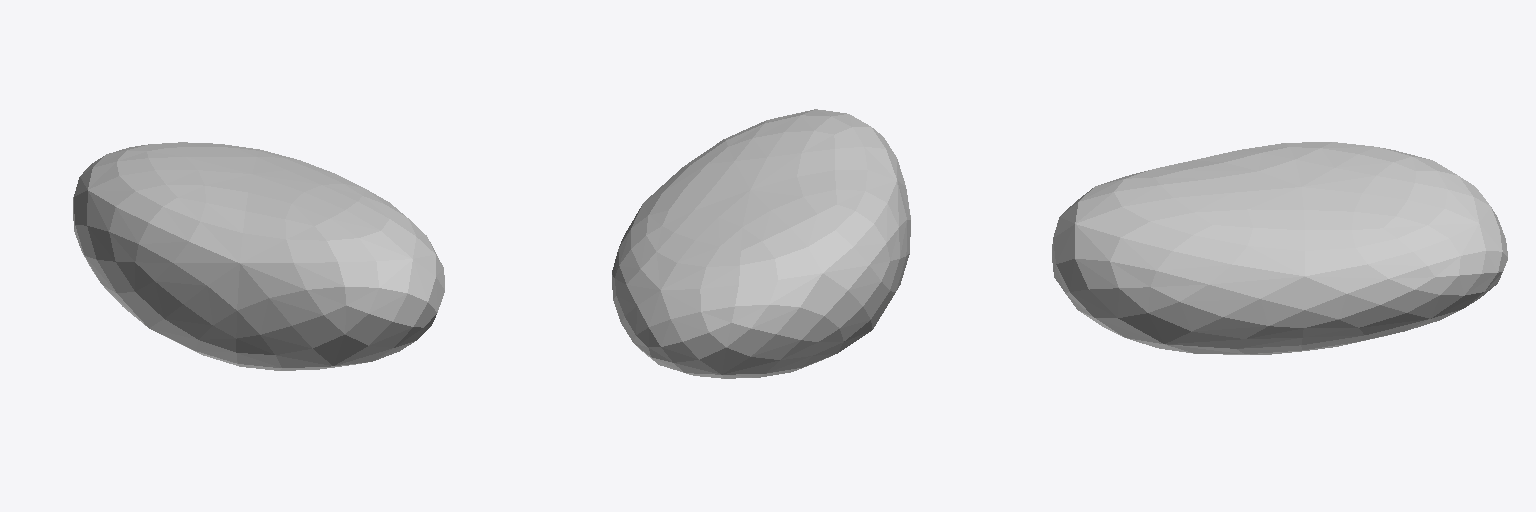
The model's file is rock1.obj.
3 views of the same model, side by side, from view 1: azimuth 30°, elevation 25°; view 2: azimuth 150°, elevation 25°; view 3: azimuth 270°, elevation 25° (orthographic).
Parts seen in each view (by area): view 1: Icosphere; view 2: Icosphere; view 3: Icosphere.
Part boxes in pixels (x1,y1,x2,y2): Icosphere: (73, 142, 444, 370); Icosphere: (612, 109, 910, 378); Icosphere: (1052, 142, 1507, 354).
Bounding box in the file's own units: 7.86 × 4.59 × 12.23.